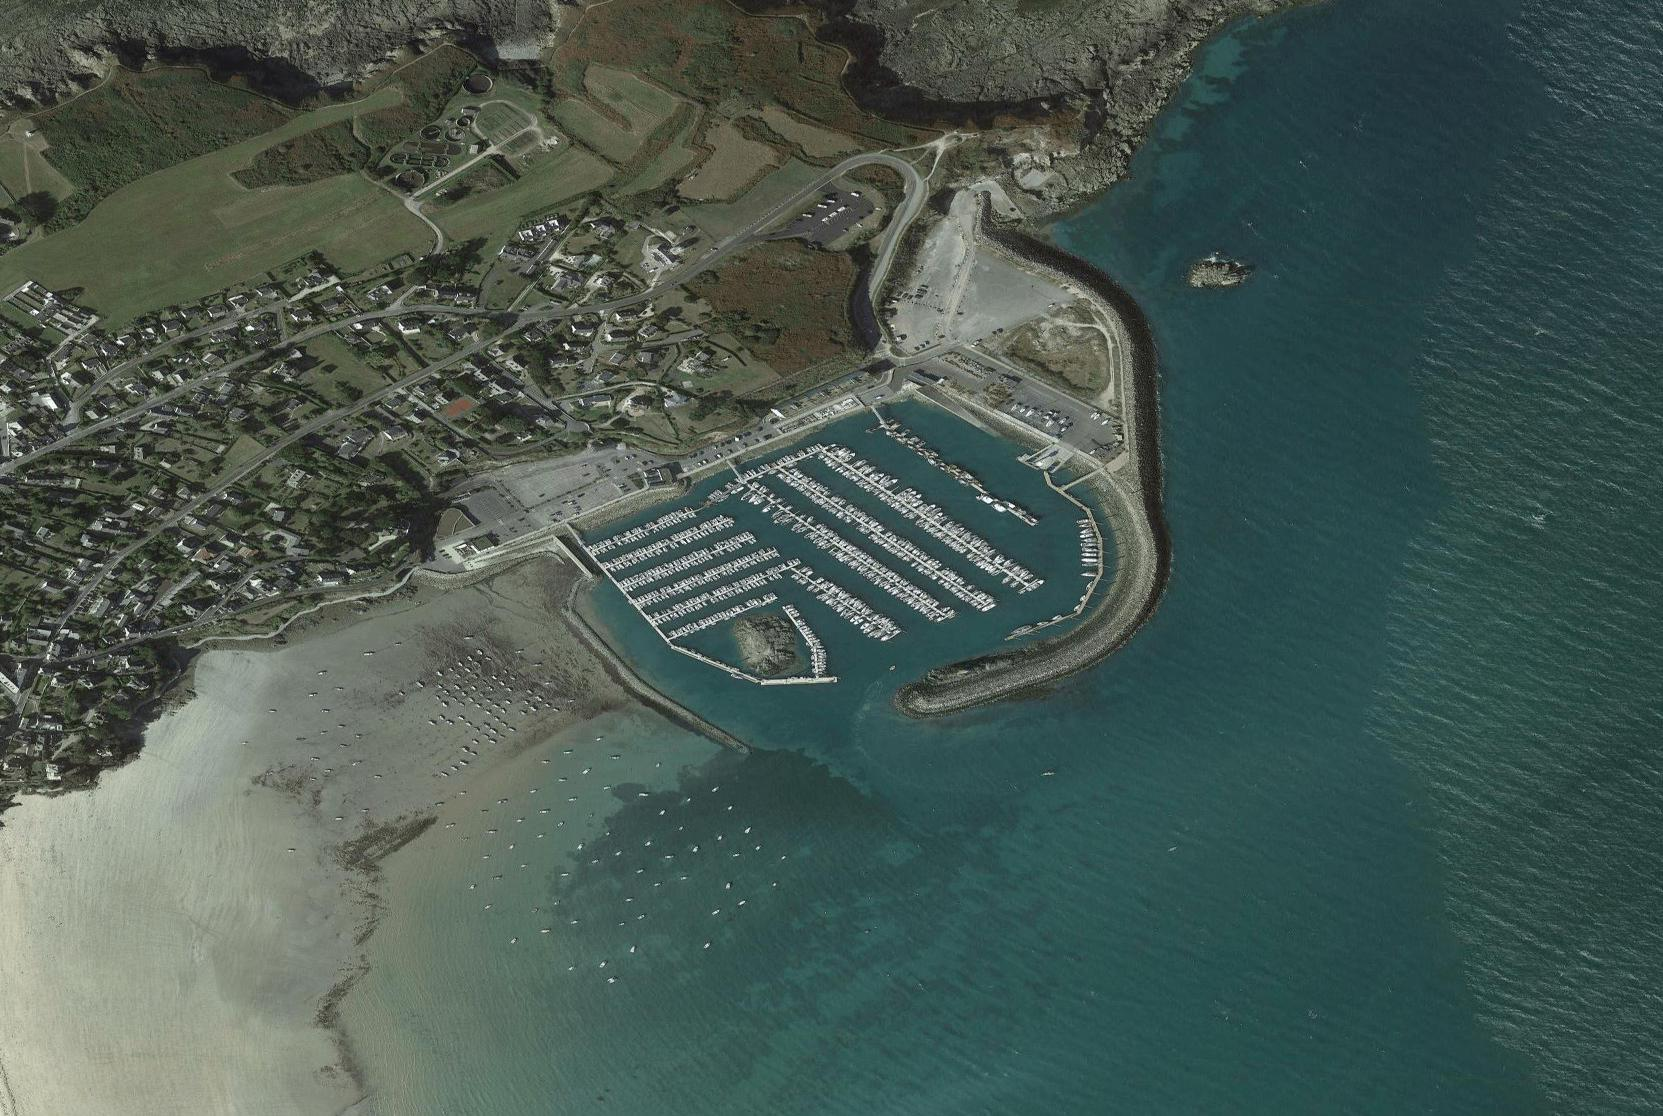harbor: (551, 356, 1160, 773)
